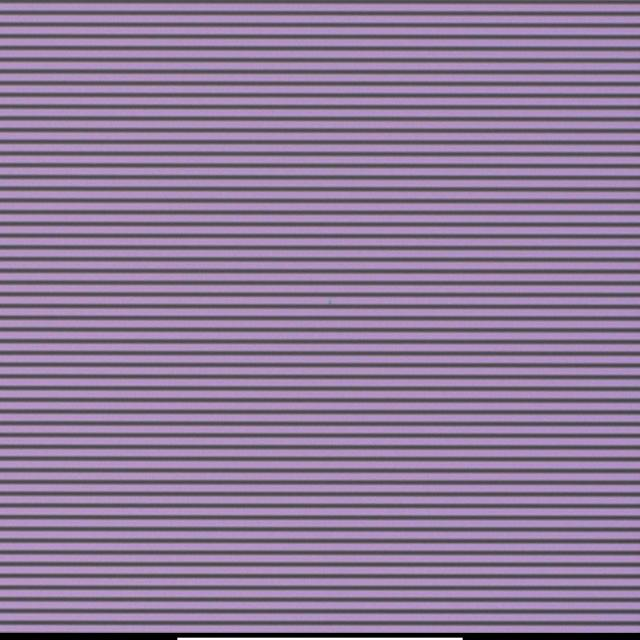nonvisual: (326, 295, 338, 310)
